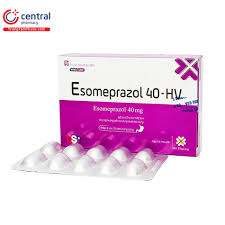Esomeprazol: (72, 80, 144, 100)
